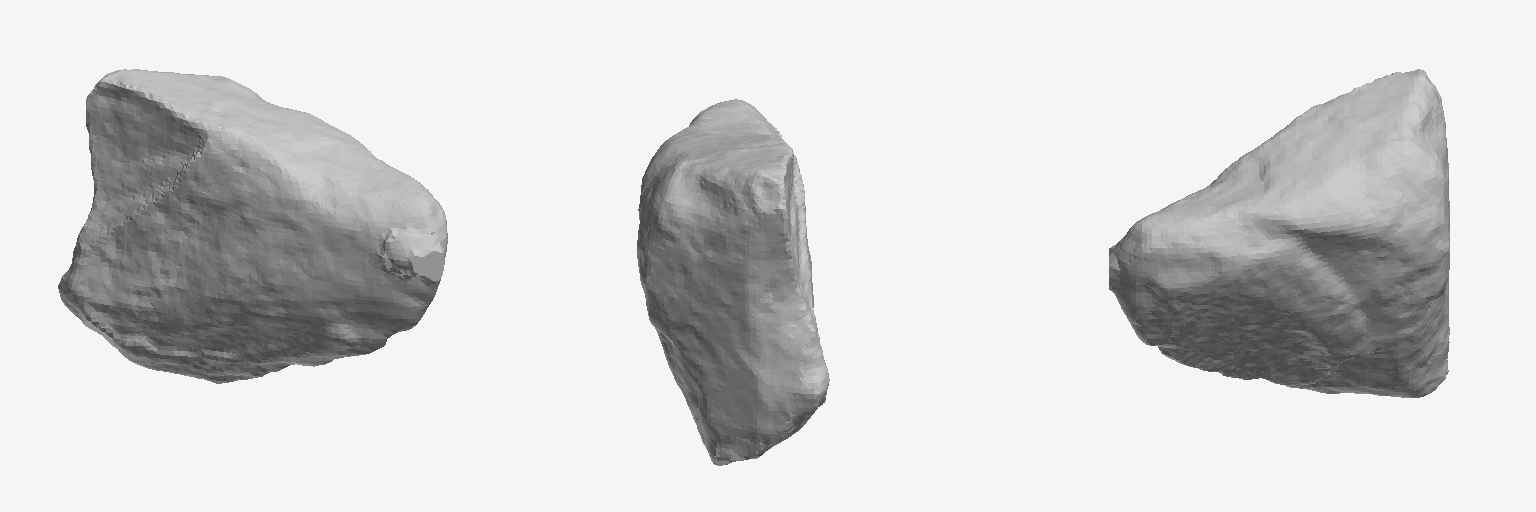
3 views of the same model, side by side, from view 1: azimuth 30°, elevation 25°; view 2: azimuth 150°, elevation 25°; view 3: azimuth 270°, elevation 25° (orthographic).
Visible parts, largest first — view 1: SP1_az; view 2: SP1_az; view 3: SP1_az.
Part boxes in pixels (left/top/right/bottom): SP1_az: left=58, top=69, right=447, bottom=383; SP1_az: left=637, top=99, right=829, bottom=465; SP1_az: left=1109, top=69, right=1449, bottom=397.
Size of the model in its own units: 0.6701 by 0.7679 by 0.7902.